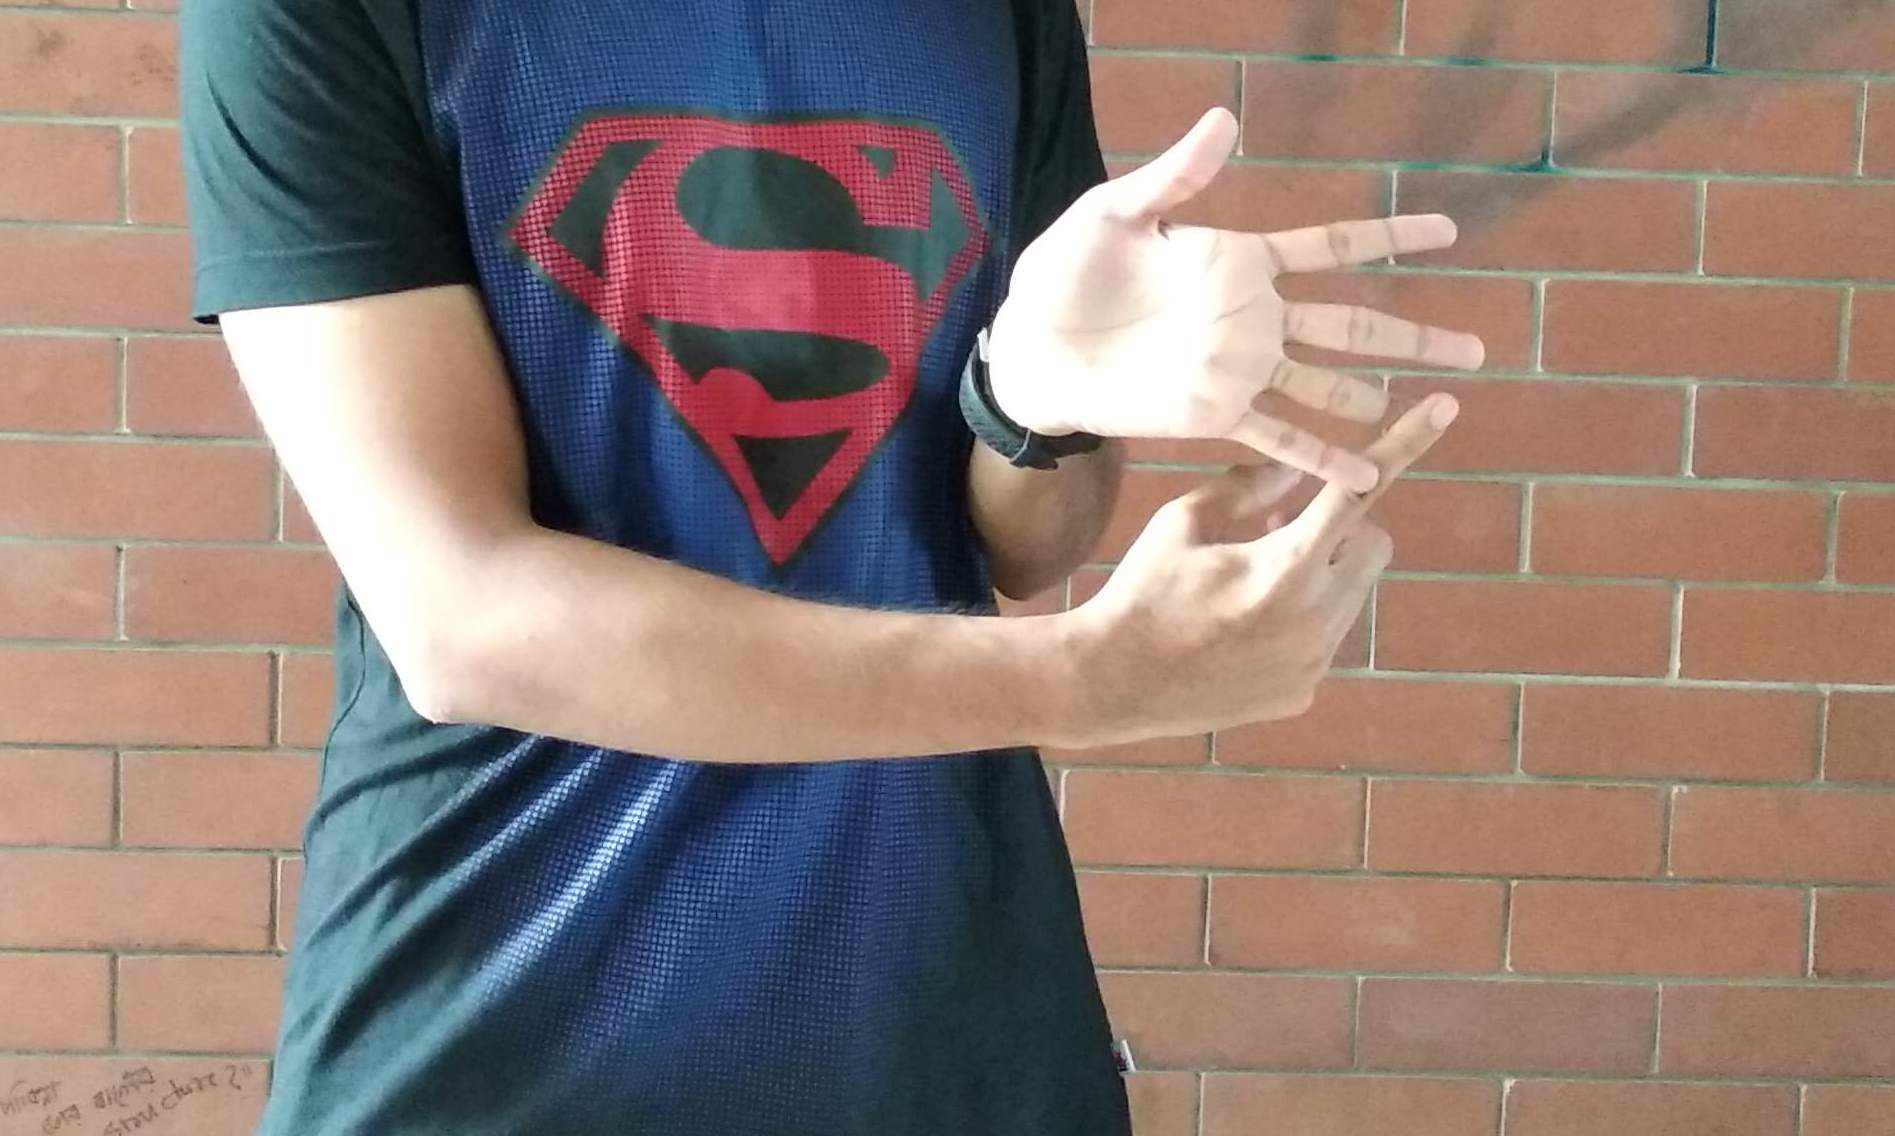e: (1039, 151, 1510, 757)
